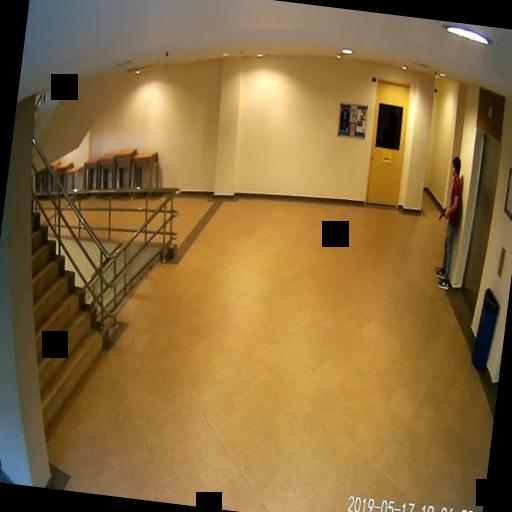Handgun: (438, 206, 446, 220)
